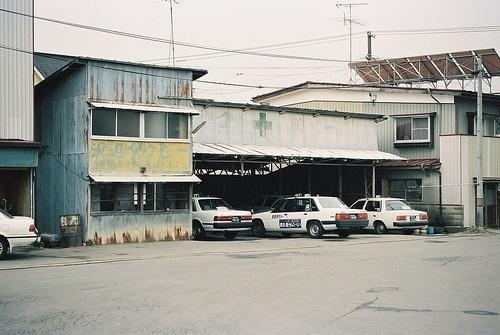car: (252, 194, 369, 238), (193, 196, 252, 241), (351, 196, 432, 228), (1, 207, 40, 262), (249, 193, 293, 213)
